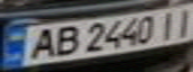0: (136, 12, 160, 44)
2: (81, 20, 109, 54)
4: (103, 17, 127, 50), (121, 16, 142, 47)
A: (24, 25, 63, 61)
B: (48, 24, 84, 57)
I: (154, 8, 181, 39), (169, 3, 193, 37)
